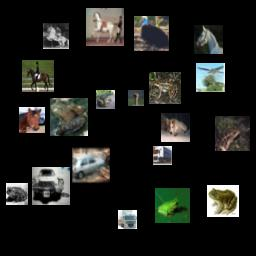airplane: (196, 63, 225, 92)
automobile: (72, 146, 110, 184), (32, 167, 70, 205)
bird: (134, 16, 169, 51), (128, 90, 144, 106)
dog: (161, 113, 190, 142)
frog: (50, 98, 88, 136), (155, 188, 190, 223), (215, 116, 250, 151), (149, 72, 181, 104), (207, 185, 239, 217), (6, 183, 28, 205), (96, 90, 115, 109)
truck: (118, 210, 137, 229), (153, 146, 172, 165)
